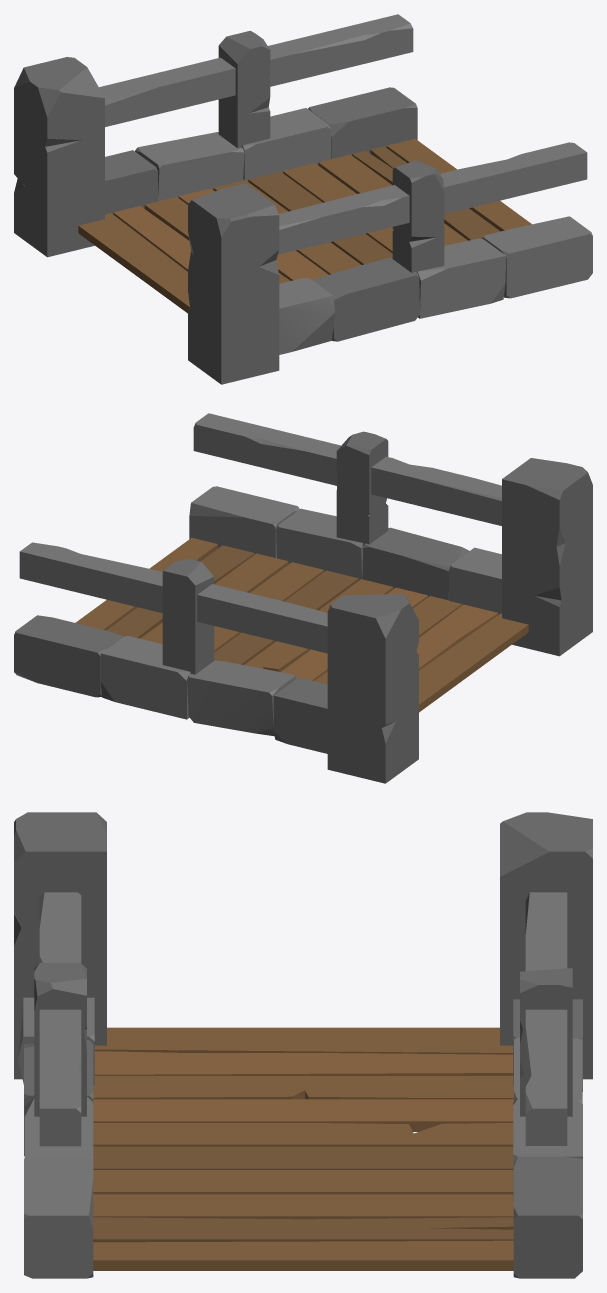
Rendered from Bridge_02.fbx.
The picture shows the model from 3 angles, top to bottom: view 1: azimuth 30°, elevation 25°; view 2: azimuth 150°, elevation 25°; view 3: azimuth 270°, elevation 25°; orthographic projection. The views are drawn at different scales.
Parts seen in each view (by area): view 1: Bridge_02_LOD0; view 2: Bridge_02_LOD0; view 3: Bridge_02_LOD0.
Boxes of the visible parts, box(x1,y1,x2,y2) form: Bridge_02_LOD0: box(14, 14, 592, 384); Bridge_02_LOD0: box(14, 413, 592, 783); Bridge_02_LOD0: box(14, 812, 592, 1278).
Size of what is drawn, in the model's own units: 3.25 by 1.35 by 3.11.
